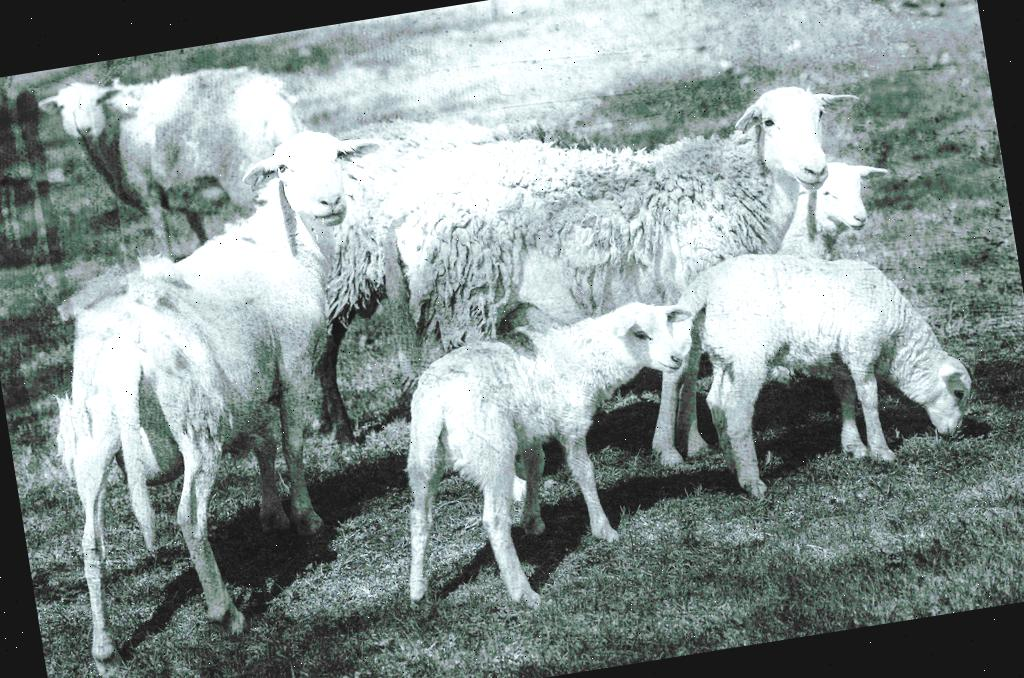Sheep: (0, 102, 453, 678), (352, 269, 760, 616), (380, 86, 906, 353), (488, 62, 868, 341), (684, 226, 976, 497)
